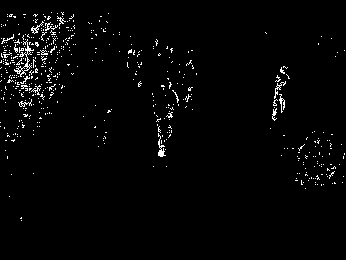person: (149, 79, 178, 161), (272, 63, 288, 121)
